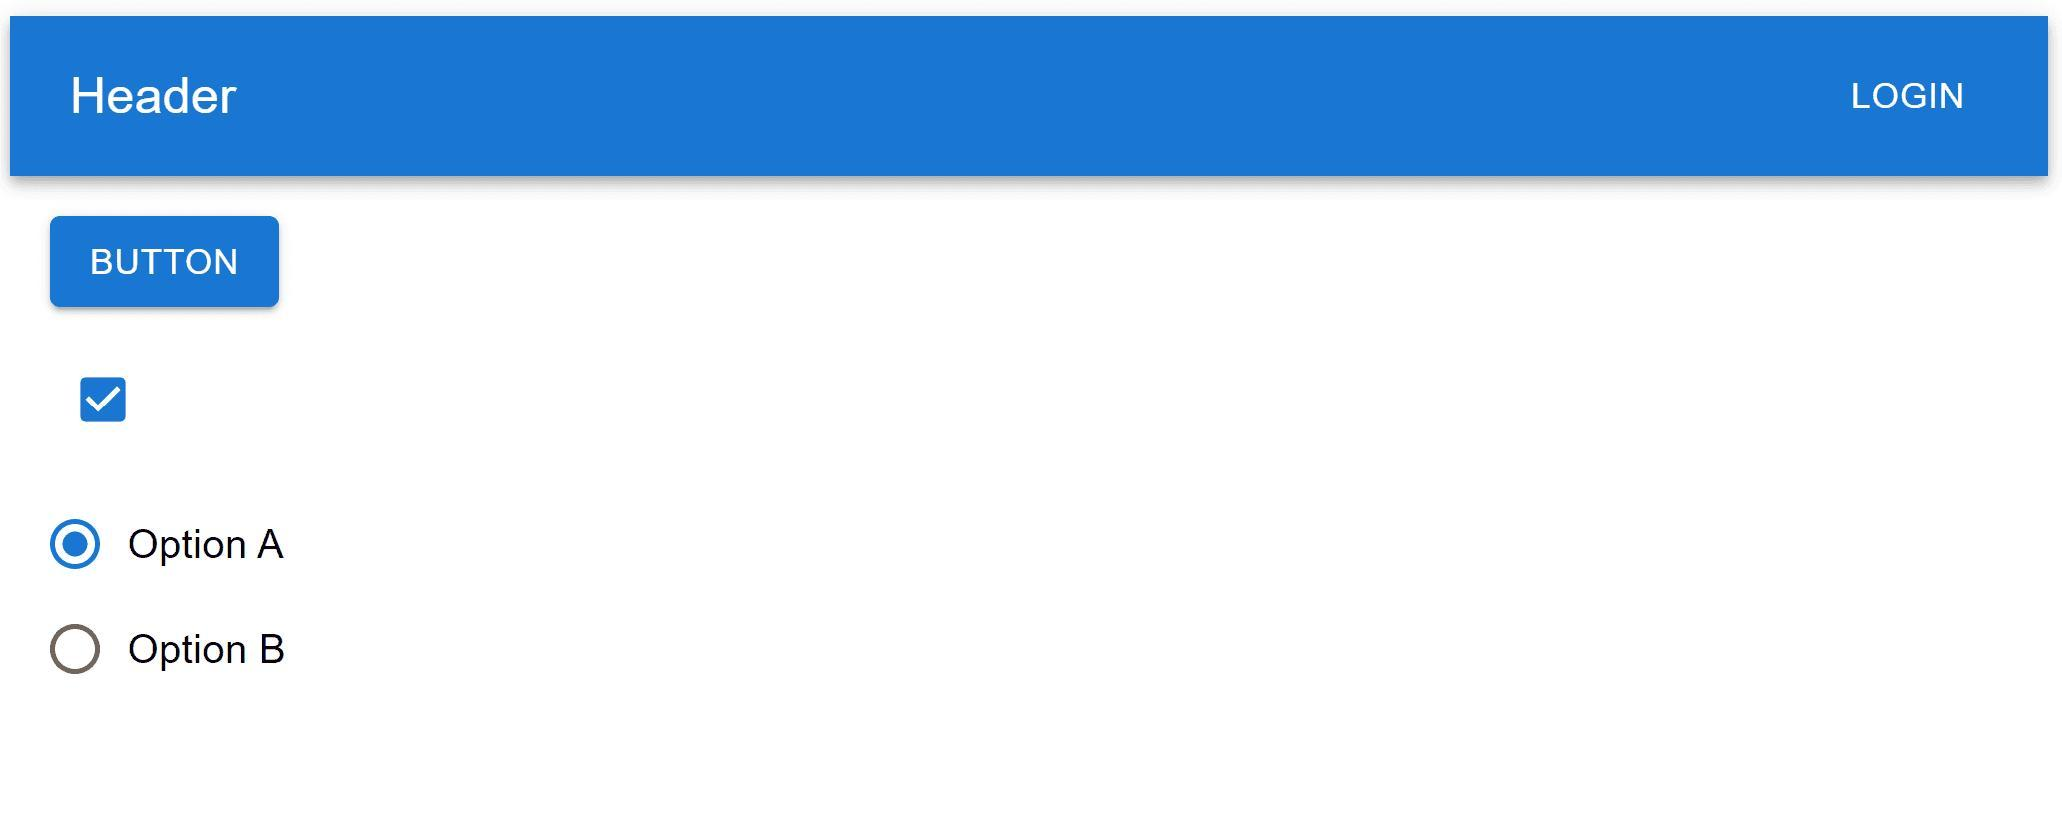button: (51, 213, 281, 312)
checkbox: (79, 377, 129, 425)
label: (122, 620, 296, 680), (120, 521, 288, 572)
radio: (47, 517, 104, 578), (49, 622, 104, 681)
